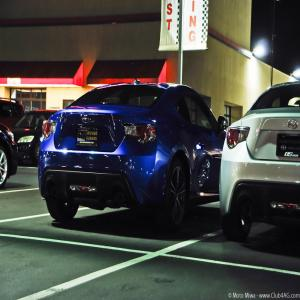Vehicle-registration-plate: (76, 129, 102, 151), (277, 135, 300, 159)
